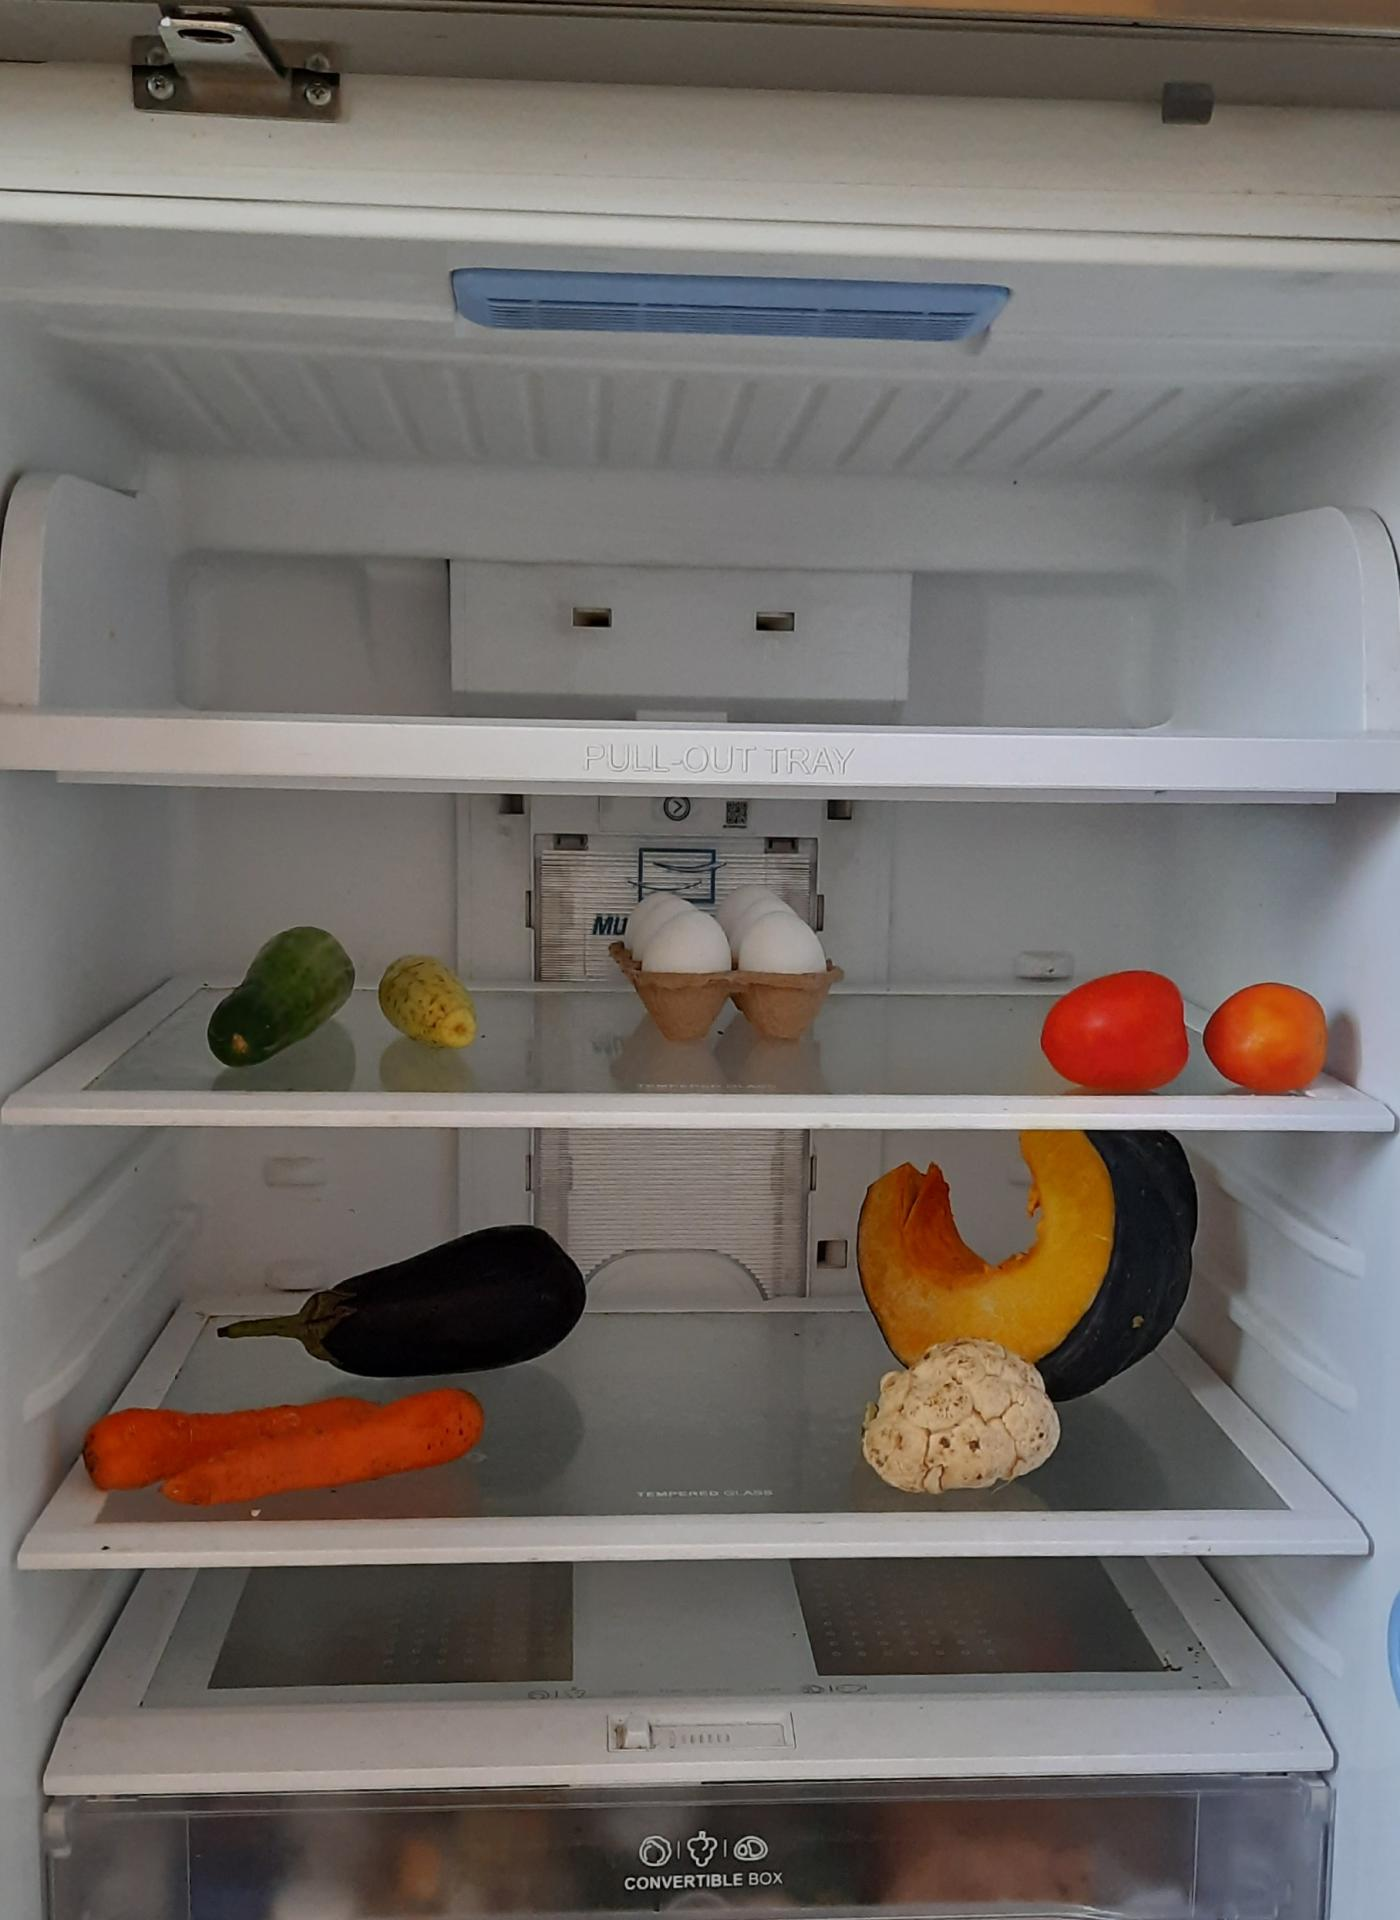brinjal: (227, 1221, 589, 1370)
carrots: (92, 1379, 486, 1491)
cauliflower: (856, 1343, 1063, 1491)
cucumber: (206, 929, 498, 1072)
egg: (619, 884, 829, 1036)
pumpkin: (860, 1139, 1205, 1404)
tomato: (1042, 964, 1193, 1088), (1202, 981, 1342, 1094)
